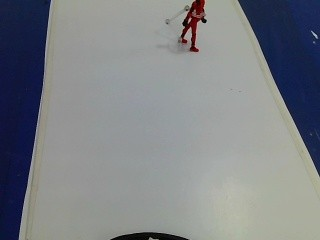pedestrian: (160, 0, 219, 60)
